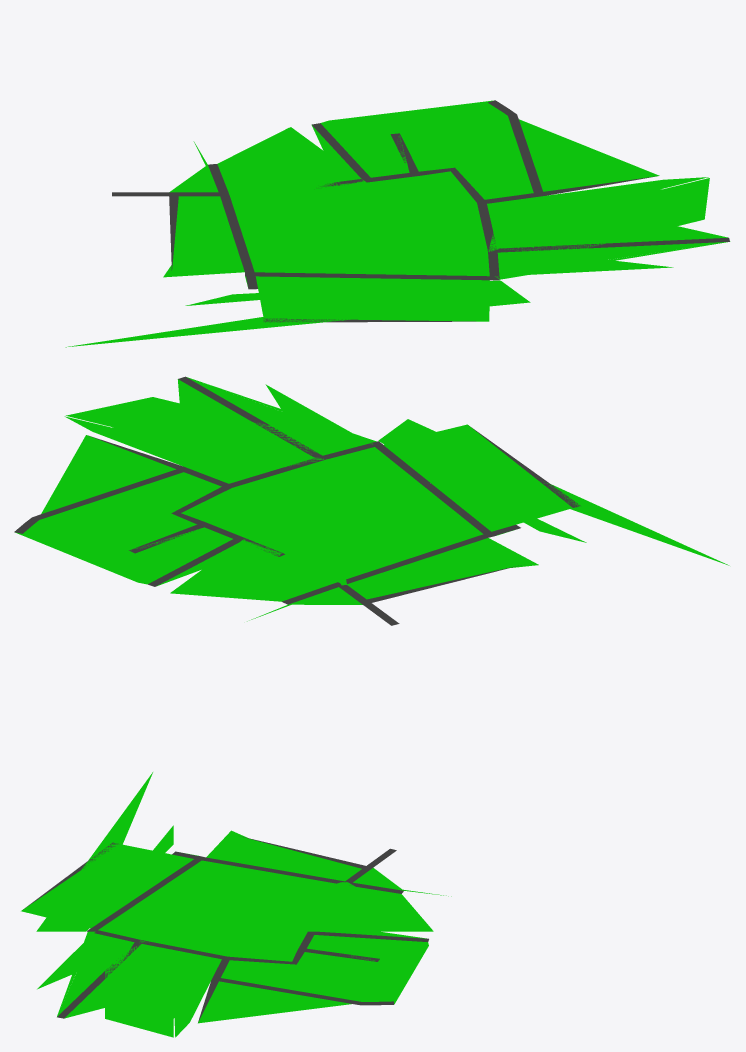
The picture shows the model from 3 angles, top to bottom: view 1: azimuth 30°, elevation 25°; view 2: azimuth 150°, elevation 25°; view 3: azimuth 270°, elevation 25°; orthographic projection. The views are drawn at different scales.
Size of the model in its own units: 276 by 0 by 313.
